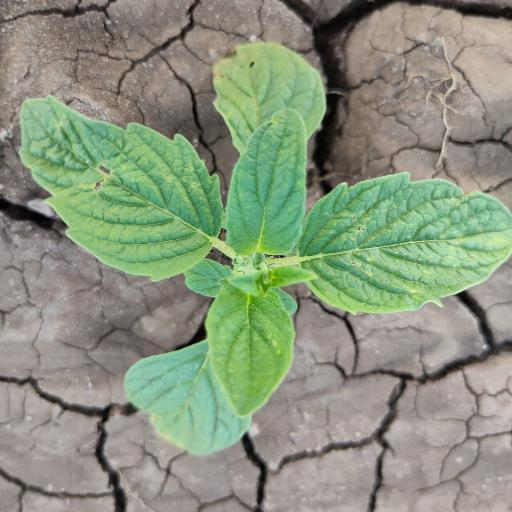crop: (14, 49, 508, 434)
